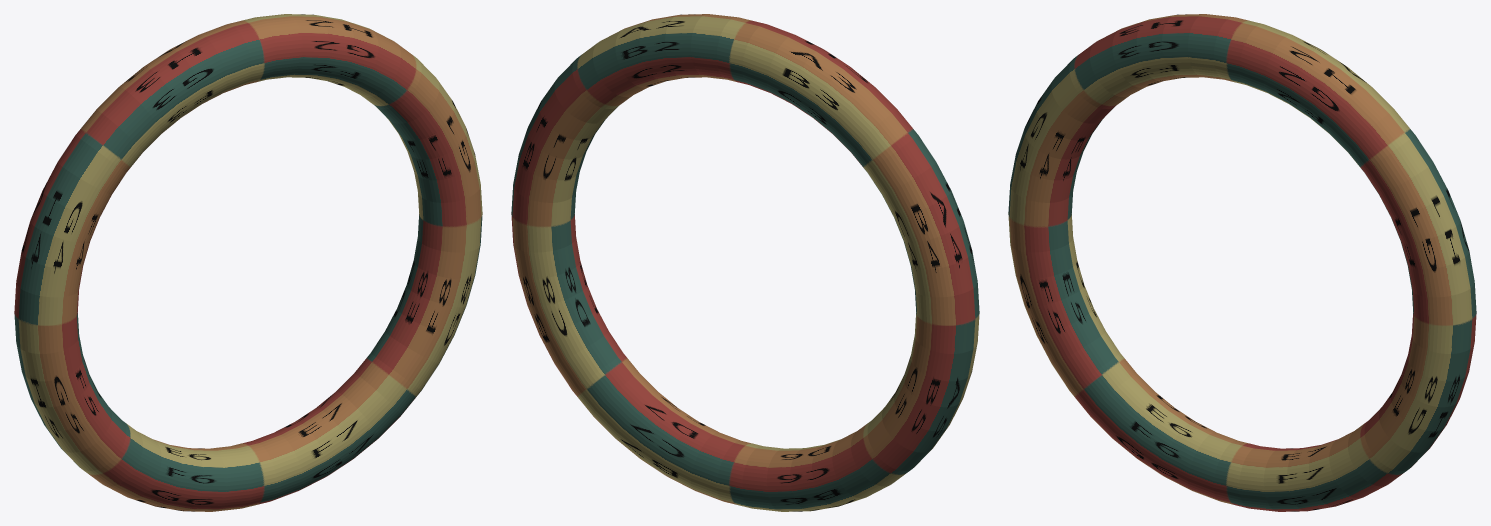
File: texture_torus_R13_r2.glb
The picture shows the model from 3 angles, left to right: view 1: azimuth 30°, elevation 25°; view 2: azimuth 150°, elevation 25°; view 3: azimuth 330°, elevation 25°; orthographic projection.
Visible parts, largest first — view 1: world; view 2: world; view 3: world.
Boxes of the visible parts, x1,y1,x2,y2 form: world: [14, 14, 482, 511]; world: [511, 14, 979, 511]; world: [1008, 14, 1476, 511].
Size of the model in its own units: 21.2 by 21.16 by 2.53.
1 material, 1 textured.
